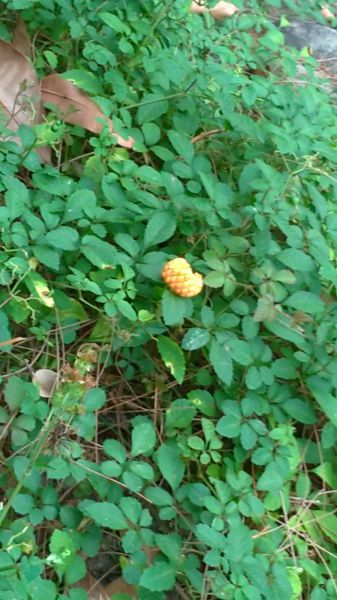eggs: (158, 256, 207, 300)
